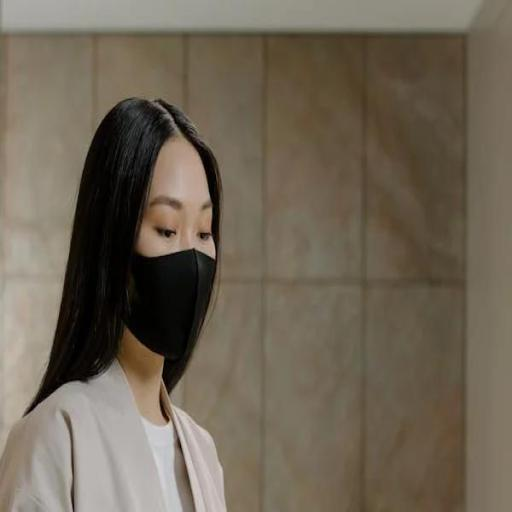mask: (89, 94, 228, 368)
